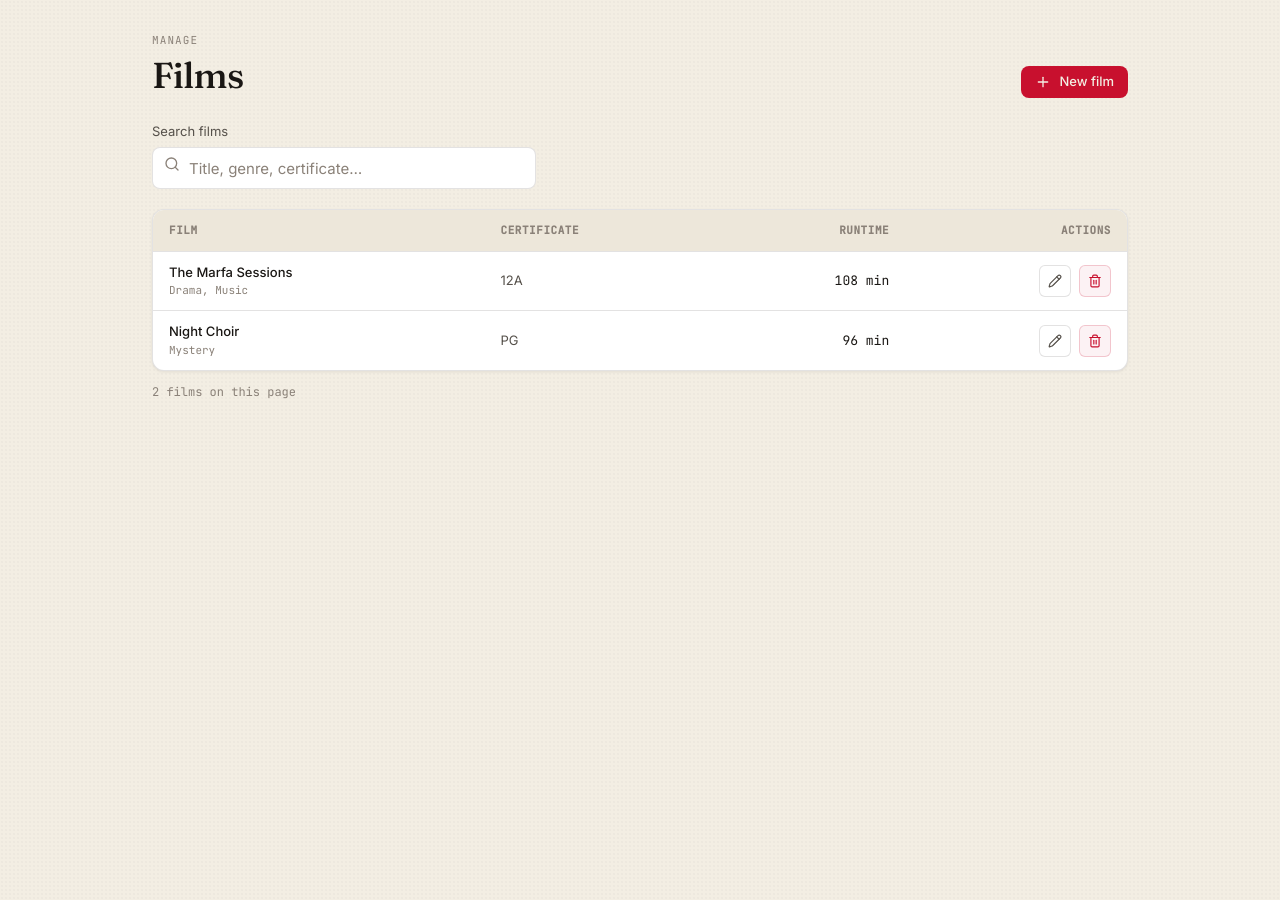
Test: AdminFilmsPage › surfaces FILM_IN_USE instead of deleting when the film has showtimes
Expected: the text "The Marfa Sessions" is shown, 169,264 -> 292,280
Click the button titled "Delete film" in the row of "The Marfa Sessions" at (1095, 281), box 1079,265 -> 1111,297
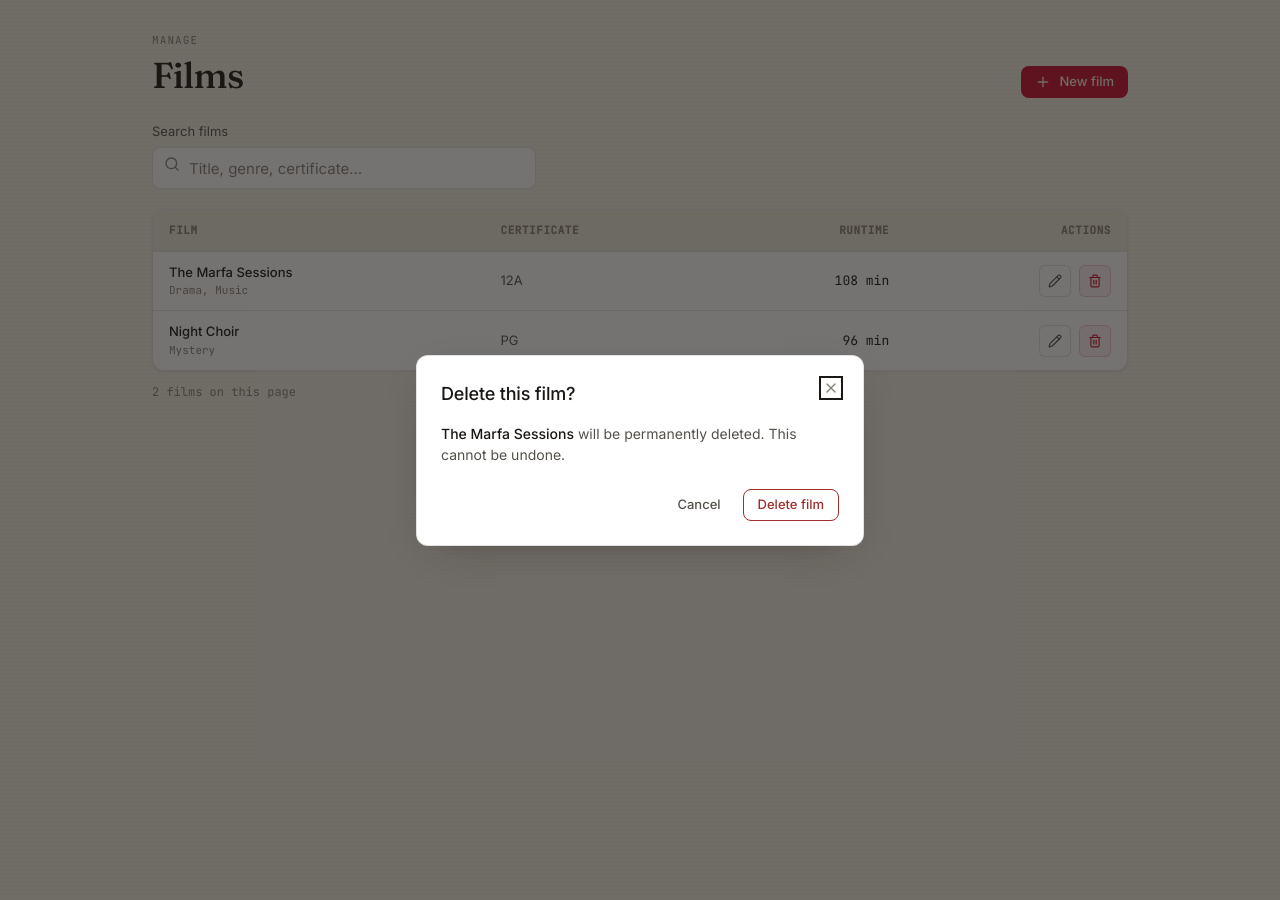
Click the button "Delete film" at (791, 504), box 743,488 -> 839,520
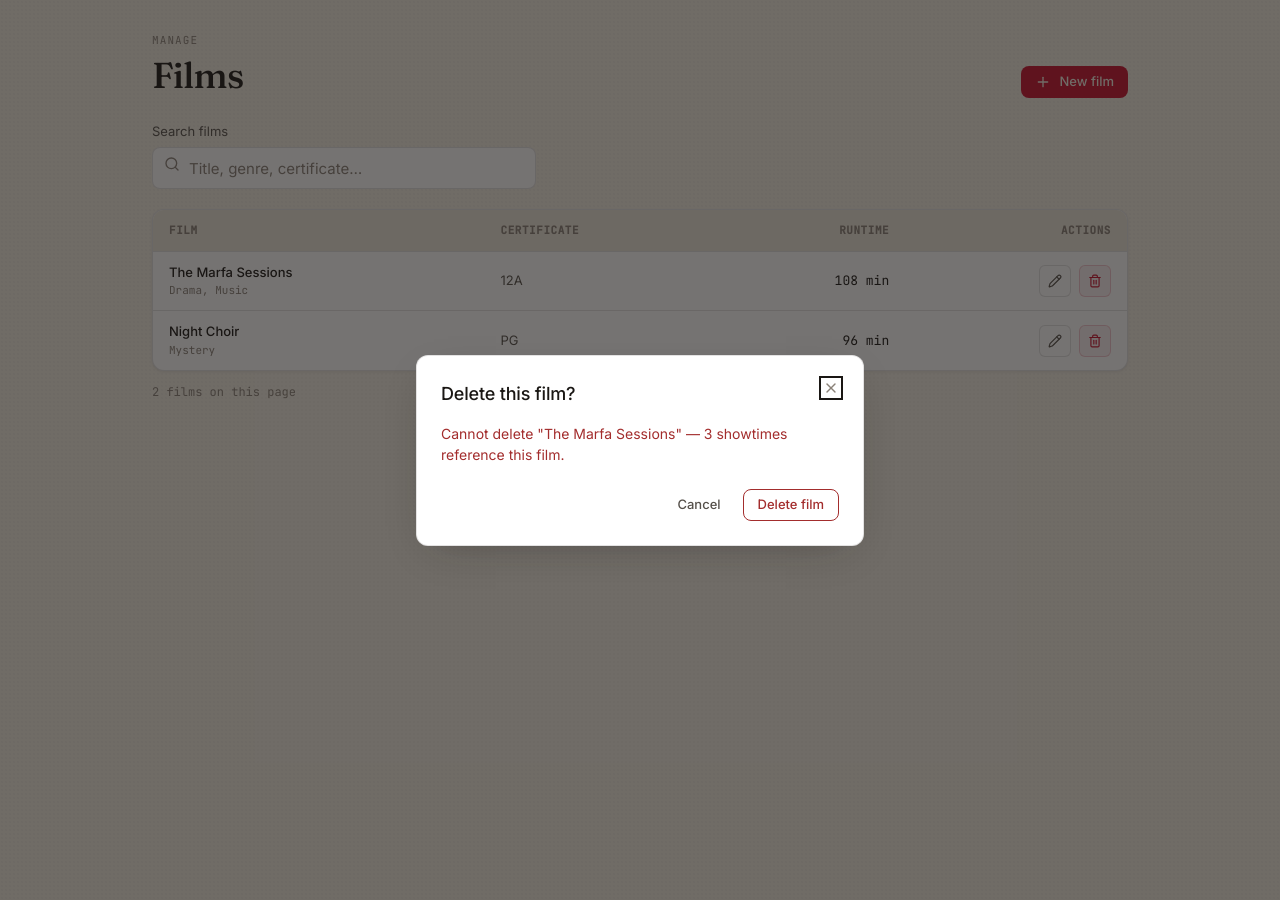
Now the message shows "3 showtimes reference this film", box 441,424 -> 788,462
